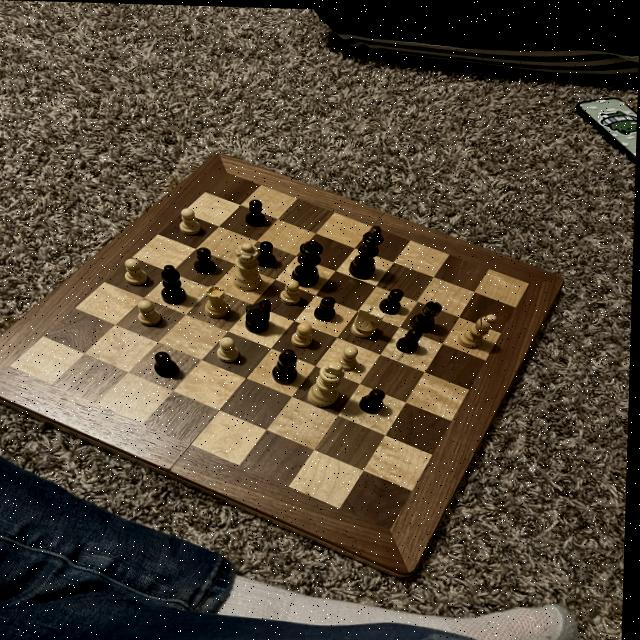bishop: (158, 260, 195, 308), (271, 346, 303, 383)
black-bishop: (351, 221, 388, 277)
black-king: (243, 297, 279, 334)
black-knight: (155, 349, 184, 380), (244, 195, 271, 228), (194, 244, 223, 274), (313, 291, 342, 321), (359, 385, 390, 413), (398, 325, 428, 353), (381, 284, 409, 313), (258, 238, 280, 267)
black-pawn: (292, 237, 327, 287)
black-queen: (408, 295, 446, 333)
black-rook: (455, 310, 500, 346)
white-bishop: (308, 358, 347, 407)
white-king: (350, 301, 388, 337)
white-knight: (124, 255, 154, 287), (135, 297, 166, 326), (177, 205, 206, 235), (216, 335, 246, 363), (290, 319, 318, 347), (336, 343, 361, 370), (282, 276, 306, 303)
white-pawn: (233, 241, 268, 292)
white-queen: (205, 283, 236, 319)
